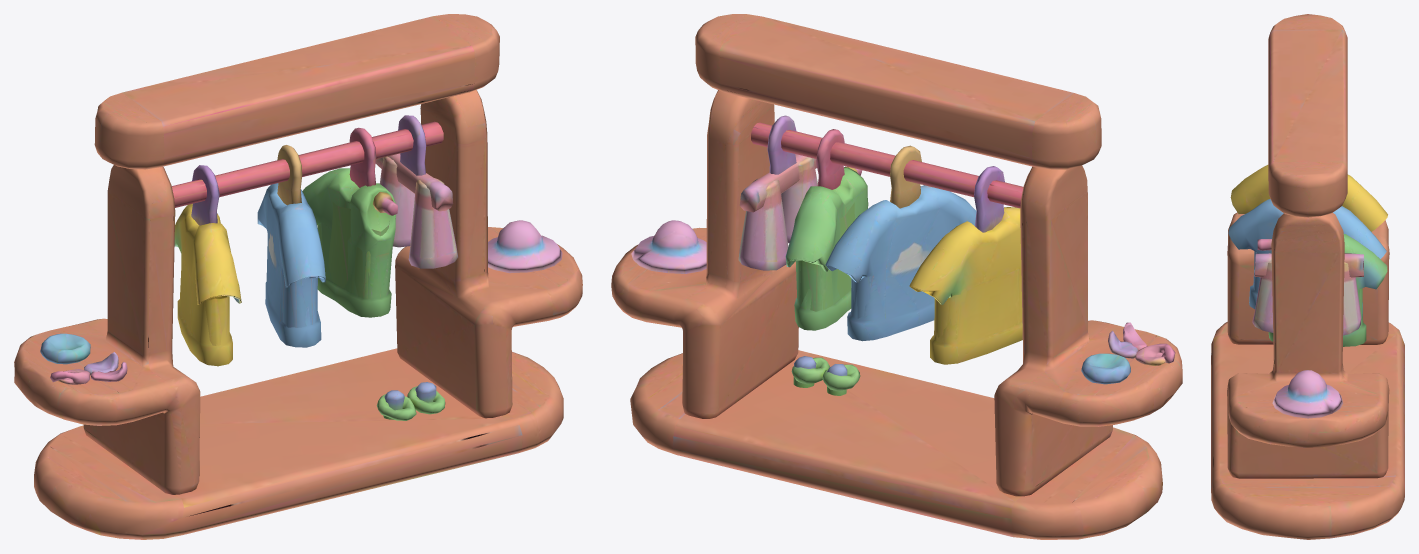
File: clothes-rack.glb
3 renders of one model, left to right at view 1: azimuth 30°, elevation 25°; view 2: azimuth 150°, elevation 25°; view 3: azimuth 270°, elevation 25°, orthographic. The views are drawn at different scales.
Visible parts, largest first — view 1: geometry_0; view 2: geometry_0; view 3: geometry_0.
Boxes of the visible parts, bbox=[...] form: geometry_0: bbox=[14, 14, 582, 539]; geometry_0: bbox=[611, 14, 1182, 539]; geometry_0: bbox=[1211, 14, 1404, 539].
Size of the model in its own units: 1 by 0.702 by 0.3611.
Materials: 1 (1 with a texture image).
